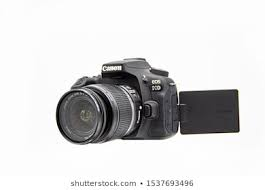camera: (57, 59, 179, 139)
